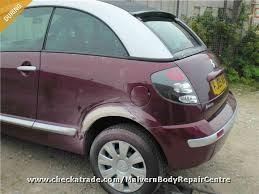Scratch: (77, 102, 149, 137)
